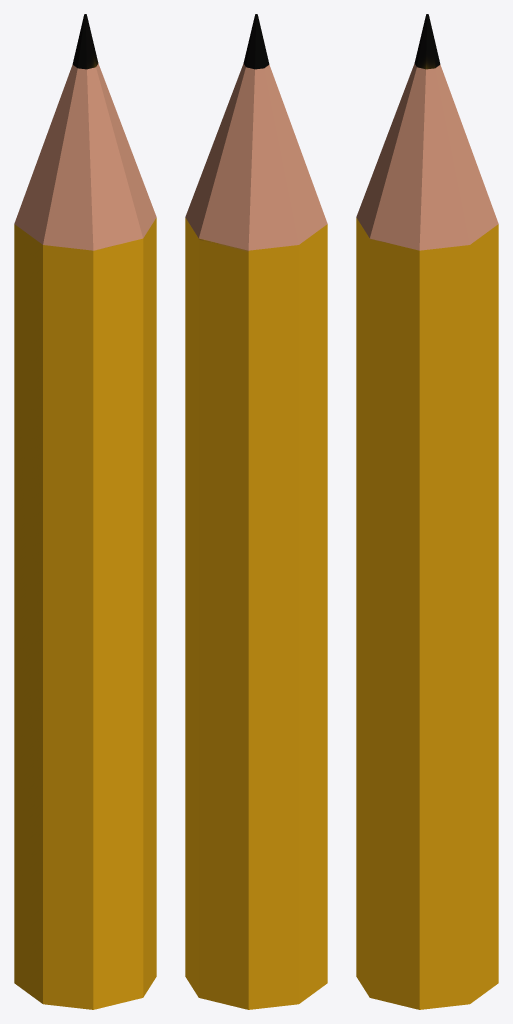
File: pencil_v2.fbx
3 views of the same model, side by side, from view 1: azimuth 30°, elevation 25°; view 2: azimuth 150°, elevation 25°; view 3: azimuth 330°, elevation 25° (orthographic).
Parts seen in each view (by area): view 1: Cube.001; view 2: Cube.001; view 3: Cube.001.
Boxes of the visible parts, x1,y1,x2,y2 form: Cube.001: (14,14,156,1009); Cube.001: (185,14,327,1009); Cube.001: (356,14,498,1009).
Size of the model in its own units: 200 by 1623 by 200.
Materials: 1 (1 with a texture image).
